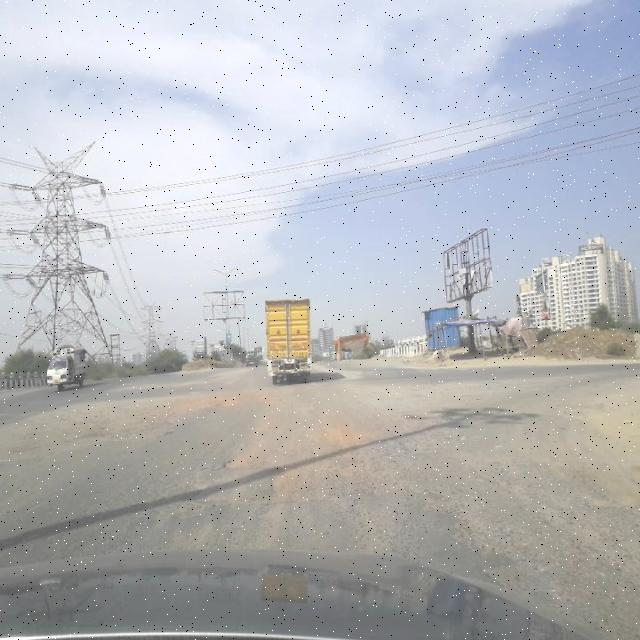D20: (37, 441, 410, 552)
D40: (455, 449, 640, 570), (214, 413, 428, 508), (1, 385, 211, 446)
